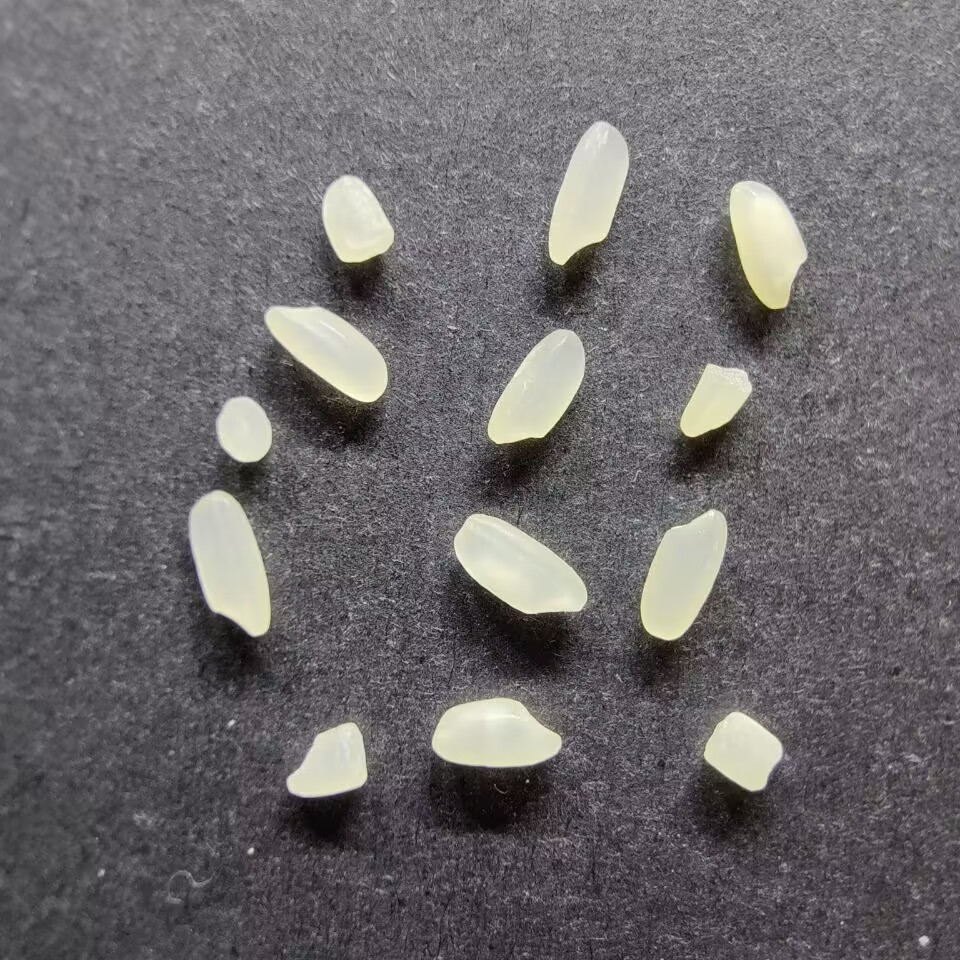broken: (281, 718, 370, 799), (318, 173, 397, 264), (699, 710, 786, 792), (680, 359, 757, 440), (212, 394, 273, 464)
rice: (451, 512, 589, 616), (261, 303, 390, 405), (185, 488, 272, 638), (638, 506, 730, 642), (546, 118, 630, 266), (486, 326, 588, 446), (728, 179, 811, 310), (428, 696, 564, 769)
